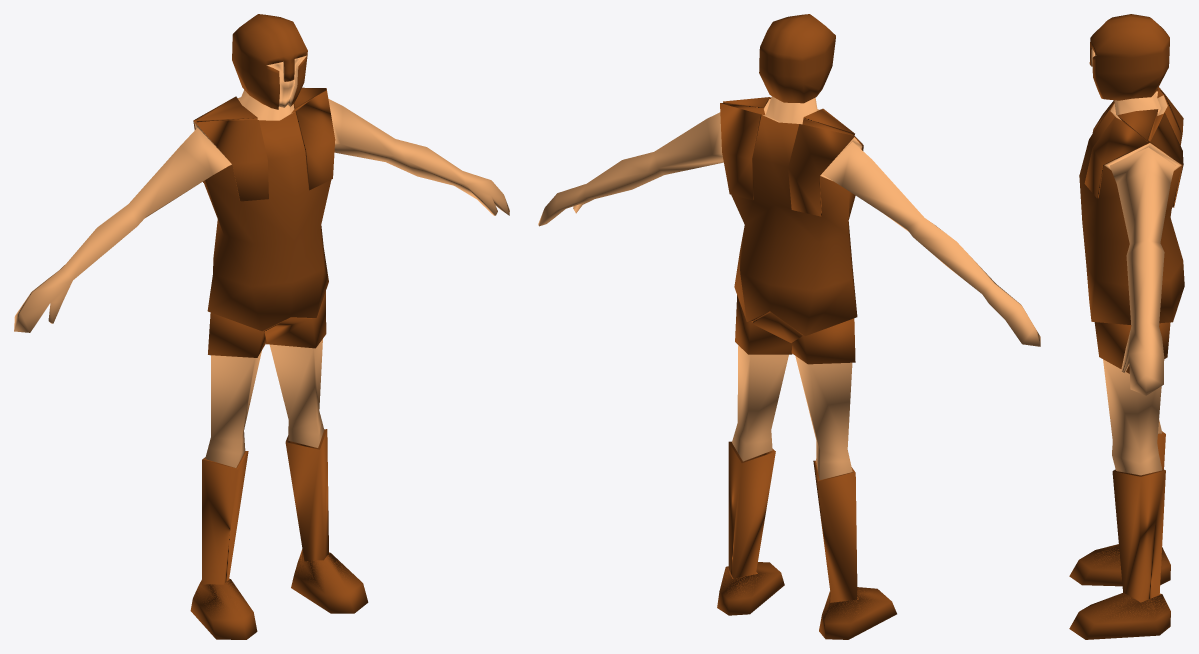
The model's file is Soldado.fbx.
3 views of the same model, side by side, from view 1: azimuth 30°, elevation 25°; view 2: azimuth 150°, elevation 25°; view 3: azimuth 270°, elevation 25° (orthographic).
Visible parts, largest first — view 1: HumanoidBase_NotOverlapping; view 2: HumanoidBase_NotOverlapping; view 3: HumanoidBase_NotOverlapping.
Part boxes in pixels (left/top/right/bottom): HumanoidBase_NotOverlapping: left=14, top=14, right=509, bottom=639; HumanoidBase_NotOverlapping: left=538, top=14, right=1040, bottom=639; HumanoidBase_NotOverlapping: left=1069, top=14, right=1184, bottom=639.
Size of the model in its own units: 1611 by 1821 by 325.
Materials: 1 (1 with a texture image).
